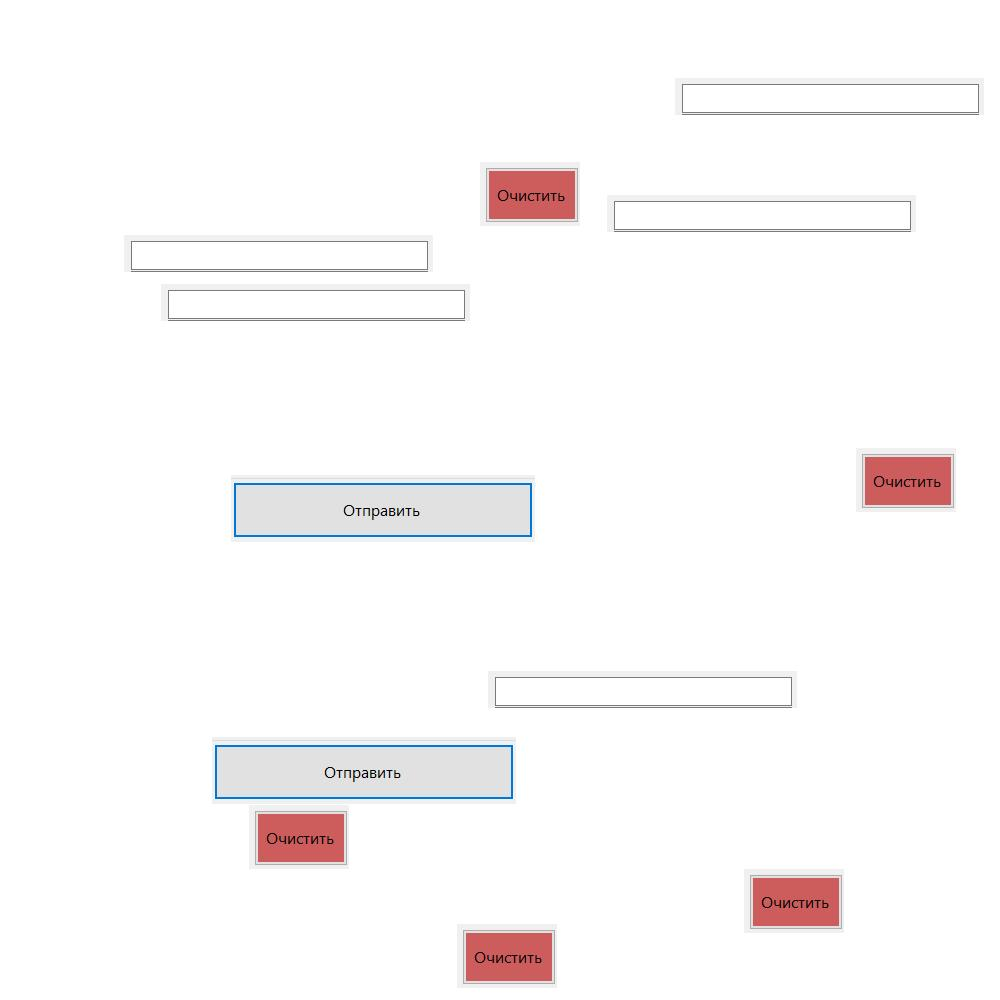Button: (212, 737, 516, 804), (231, 475, 535, 542), (856, 448, 956, 512), (480, 162, 580, 226), (744, 869, 844, 933), (457, 924, 557, 988), (249, 805, 349, 869)
EditText-: (675, 78, 984, 115), (124, 235, 433, 272), (488, 671, 797, 708), (607, 195, 916, 232), (161, 284, 470, 321)
